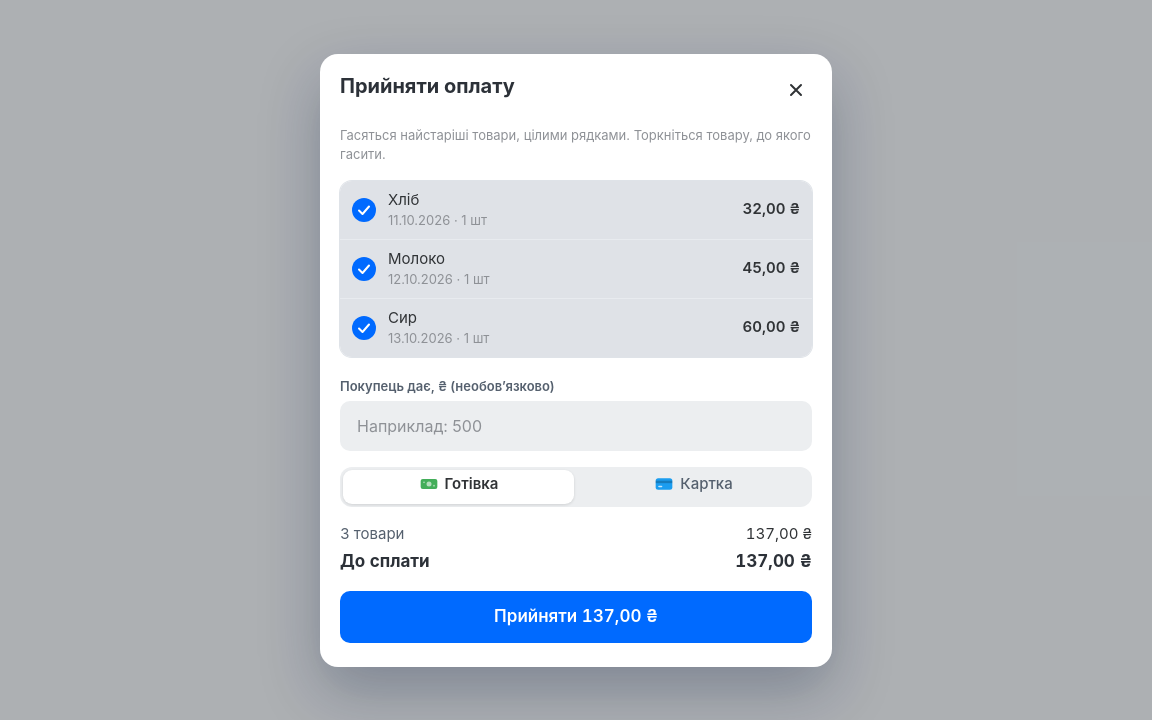
Test: PaySheet › says the money is taken and the receipt will follow, when ПРРО did not answer
Click the button "Прийняти 137,00 ₴". click: (576, 616)
box: [340,590,812,642]
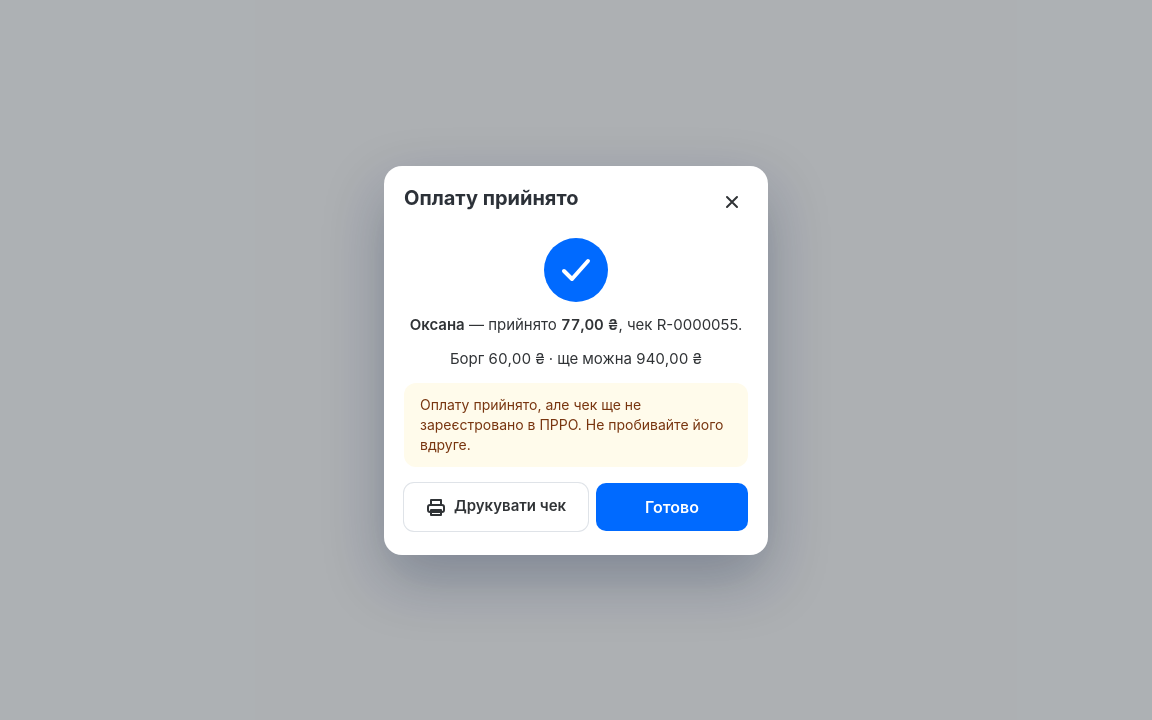
Result: the dialog with test id "debts-pay-done" shows "R-0000055" at [657,314,738,334]
Result: the dialog with test id "debts-pay-done" shows "Не пробивайте його вдруге" at [420,396,723,452]
